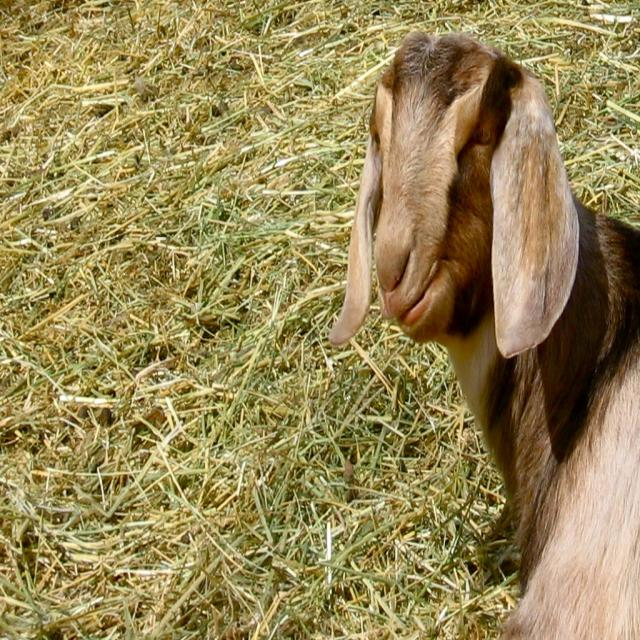Goat: (327, 32, 639, 639)
